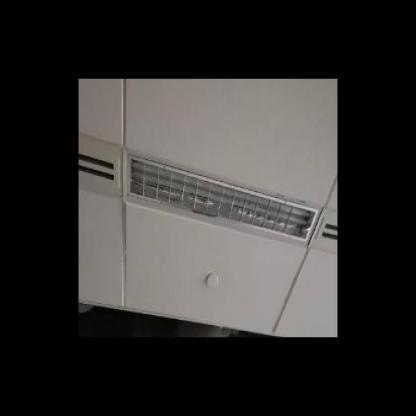light_off: (119, 140, 323, 248)
